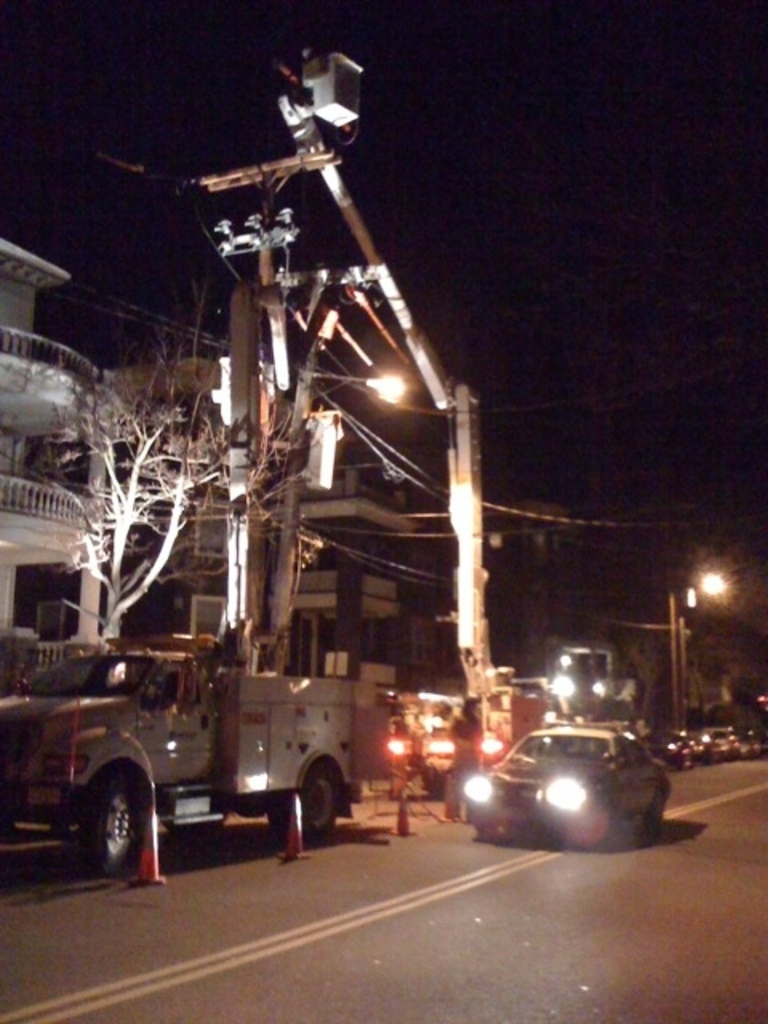Car: (456, 713, 766, 846)
